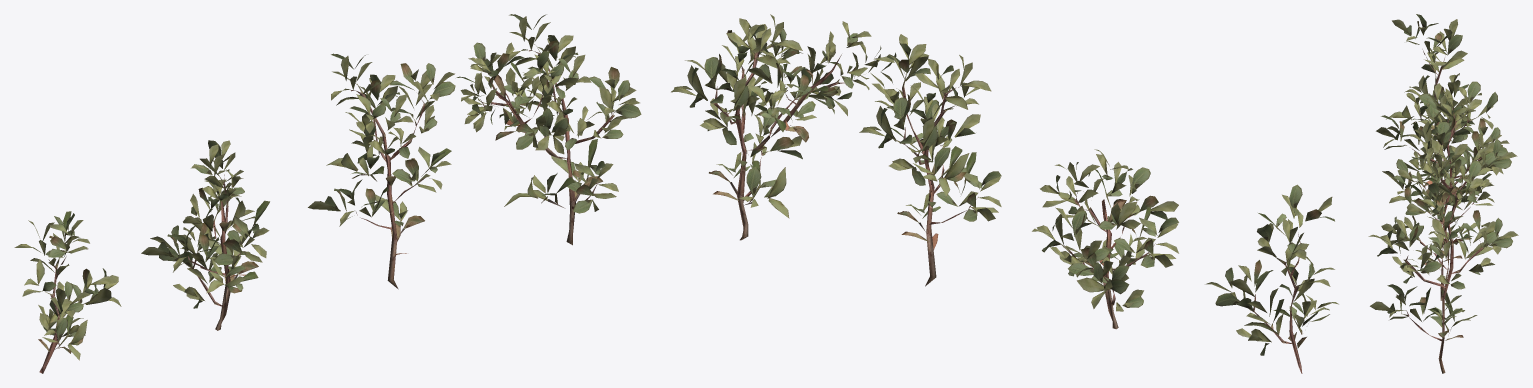
The model's file is shrub_04.l.86ea4d19.glb.
3 views of the same model, side by side, from view 1: azimuth 30°, elevation 25°; view 2: azimuth 150°, elevation 25°; view 3: azimuth 270°, elevation 25° (orthographic). The views are drawn at different scales.
Visible parts, largest first — view 1: shrub_04; view 2: shrub_04; view 3: shrub_04.
Boxes of the visible parts, x1,y1,x2,y2 form: shrub_04: [14, 14, 641, 373]; shrub_04: [671, 14, 1338, 373]; shrub_04: [1368, 14, 1518, 373].
Bounding box in the file's own units: 0.5837 × 0.2185 × 0.1461.
Materials: 1 (1 with a texture image).
